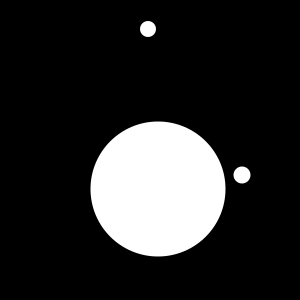rectangle: (90, 122, 225, 256), (96, 140, 194, 238), (234, 167, 250, 184), (140, 21, 156, 37)
